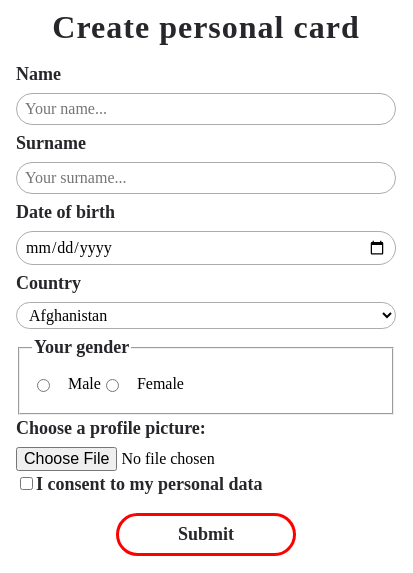
Form › not disabled submit button if one of the fields is not empty
Type "a" into the field with placeholder "Your name...".
click(206, 109); type("a")  # box [16,93,396,125]
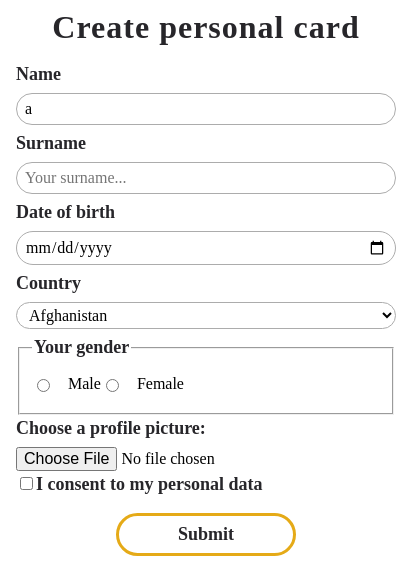
Check: the button is enabled, box [116,513,296,556]
